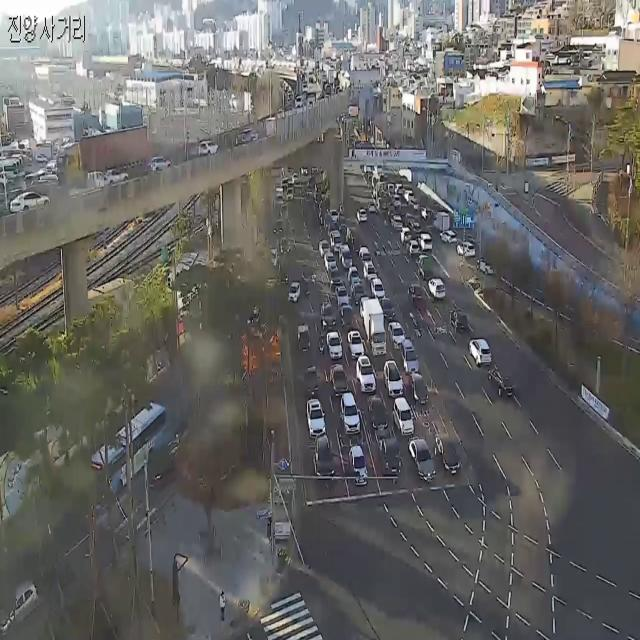car: (78, 397, 173, 529)
motorcycle: (1, 575, 43, 639), (407, 440, 436, 484), (435, 434, 462, 476), (313, 436, 336, 483), (9, 190, 51, 214), (392, 398, 414, 438), (304, 398, 329, 433), (339, 400, 363, 434), (409, 372, 431, 409), (383, 361, 405, 398), (366, 396, 388, 431), (328, 364, 351, 397), (488, 369, 514, 398), (355, 358, 375, 393), (469, 335, 490, 368), (399, 338, 417, 376), (302, 359, 320, 396), (353, 443, 366, 487), (451, 305, 468, 336), (347, 332, 365, 359), (388, 323, 406, 350), (197, 140, 221, 160), (150, 156, 172, 177), (327, 329, 341, 362), (477, 255, 497, 278), (456, 240, 477, 260), (321, 299, 334, 331), (428, 278, 445, 302), (341, 306, 354, 336), (105, 169, 127, 186), (299, 324, 311, 355), (382, 297, 396, 323), (370, 278, 385, 302), (408, 285, 423, 308), (337, 282, 348, 312), (440, 231, 456, 251), (329, 268, 344, 289), (352, 281, 367, 301), (290, 282, 302, 304), (407, 240, 419, 259), (420, 234, 434, 250), (368, 261, 377, 282), (402, 227, 412, 245), (349, 267, 358, 283)
truck: (57, 126, 149, 183), (373, 427, 402, 478), (364, 297, 386, 357), (71, 172, 104, 201), (418, 254, 433, 279), (433, 212, 451, 232)
